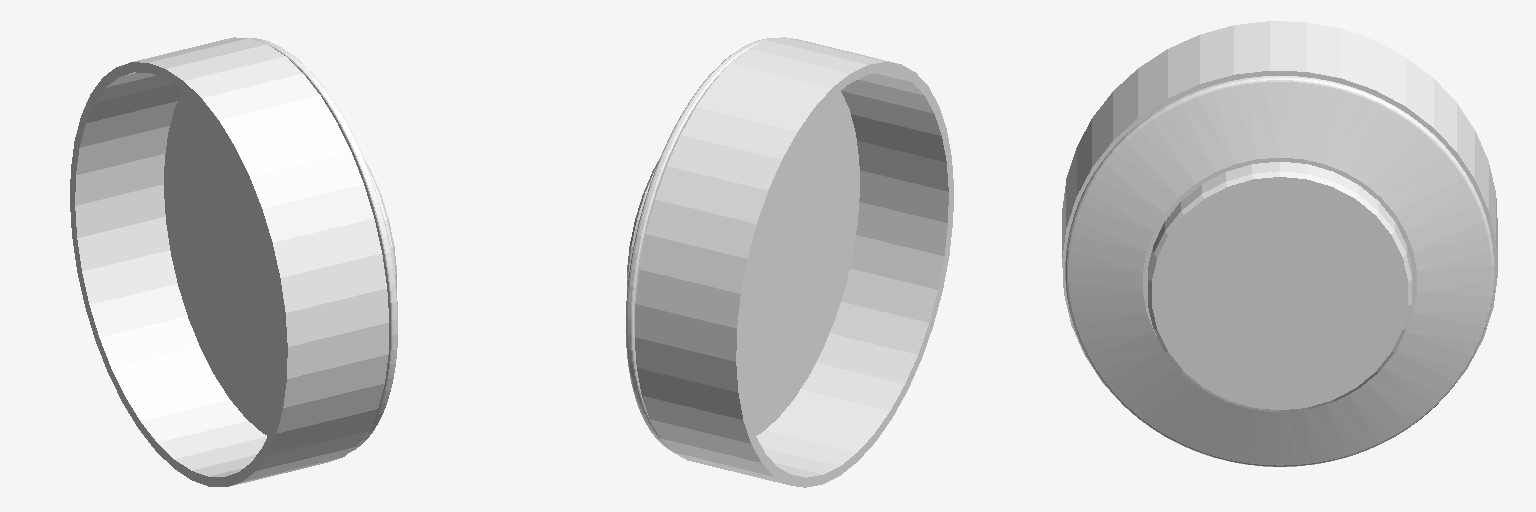
File: wrist_roll_link.obj
The picture shows the model from 3 angles: view 1: azimuth 30°, elevation 25°; view 2: azimuth 150°, elevation 25°; view 3: azimuth 270°, elevation 25°; orthographic projection.
Size of the model in its own units: 0.0425 by 0.1039 by 0.1039.